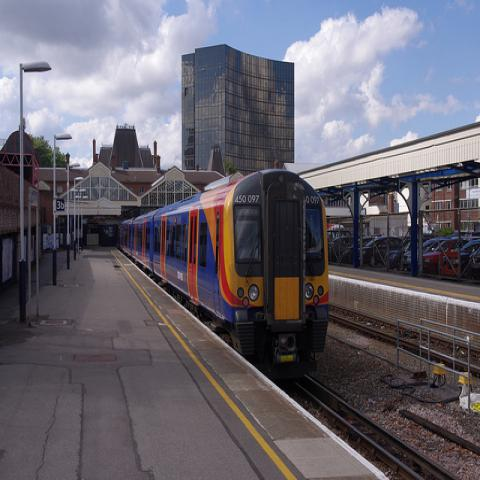car: (402, 239, 437, 270), (422, 240, 452, 274), (367, 236, 401, 264), (346, 237, 378, 264), (385, 239, 412, 271), (328, 236, 353, 264), (455, 238, 479, 257), (470, 247, 479, 280)
